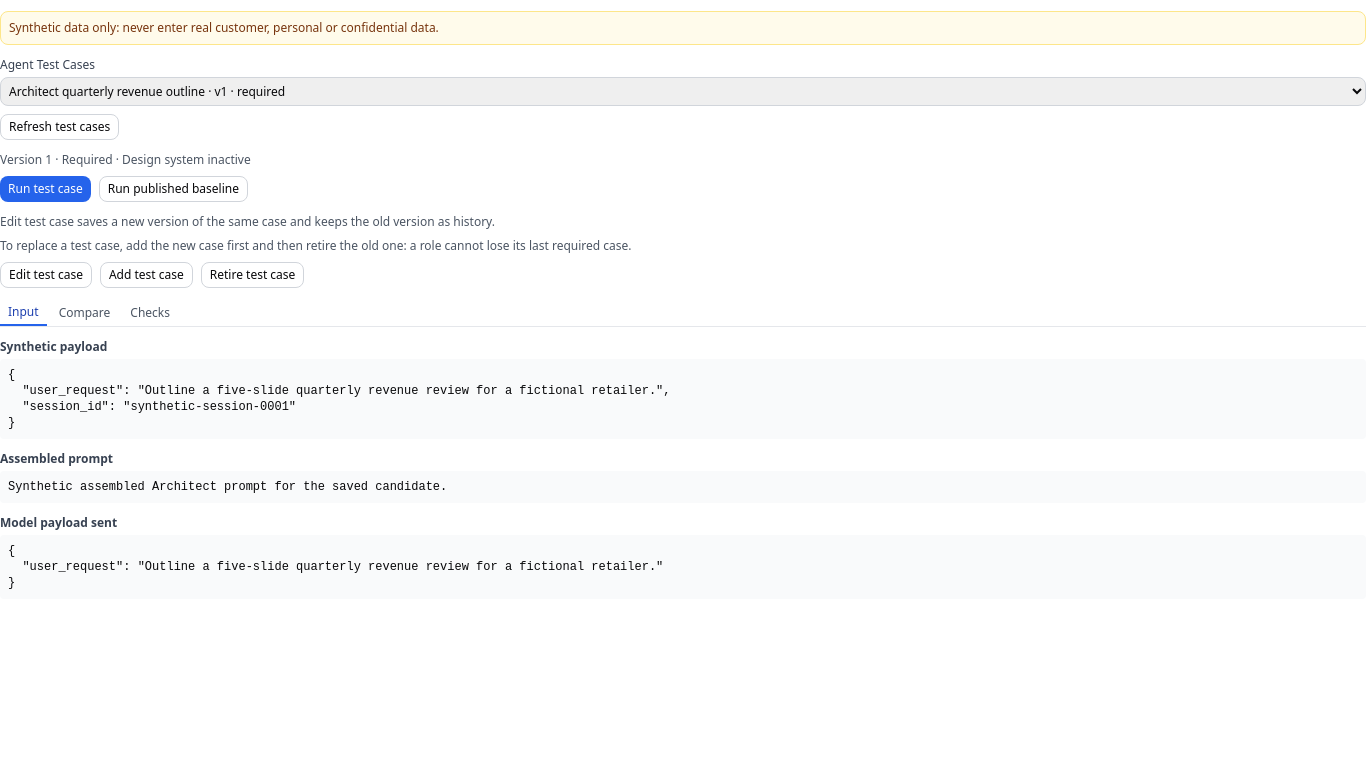
TestRunPanel › says "Baseline not recorded" when the run stored no baseline, and still shows the candidate
Click the tab "Compare": (84, 313) [51,300,118,326]
(page scrolled)
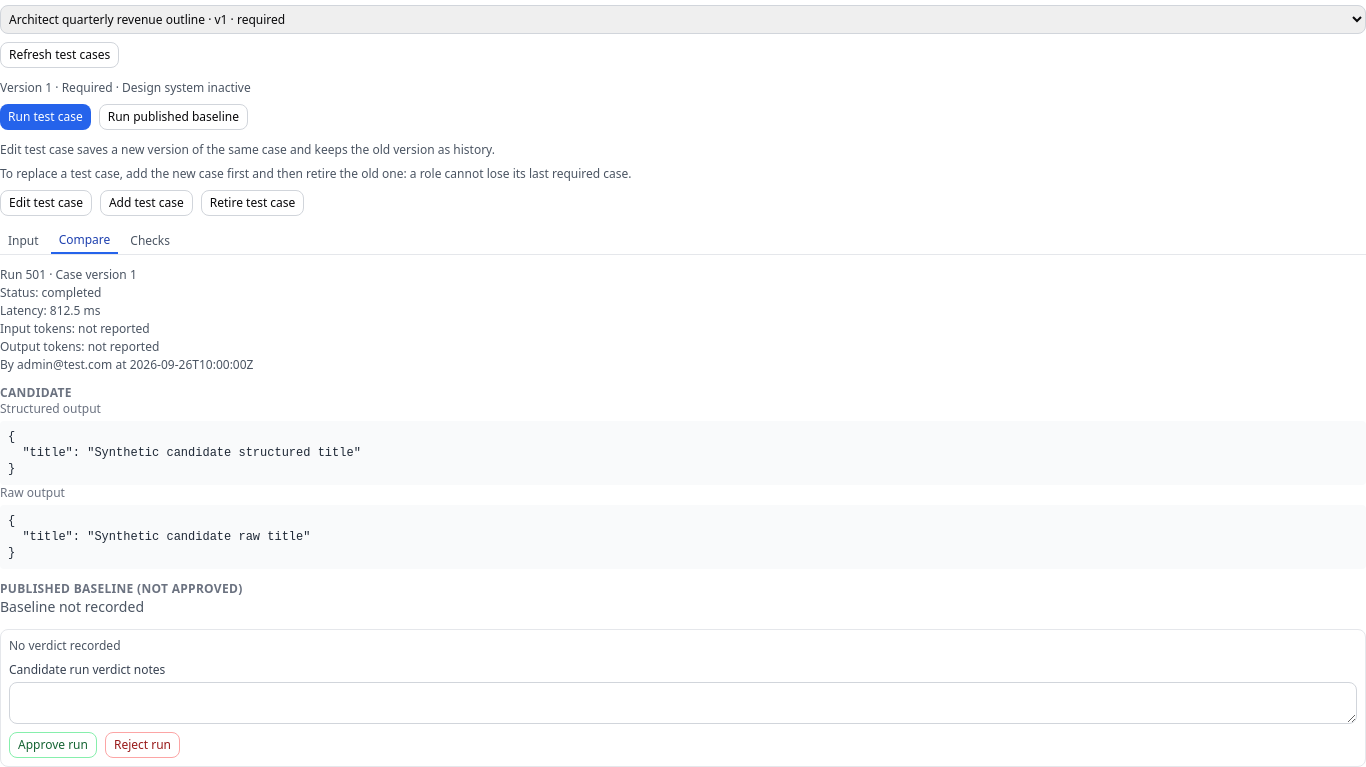
Expected: the element named "Test case evidence" shows "Baseline not recorded", [0,597,144,616]
Expected: the element named "Test case evidence" shows "Synthetic candidate structured title", [8,430,361,476]
Expected: the element named "Test case evidence" shows "Synthetic candidate raw title", [8,514,310,560]
